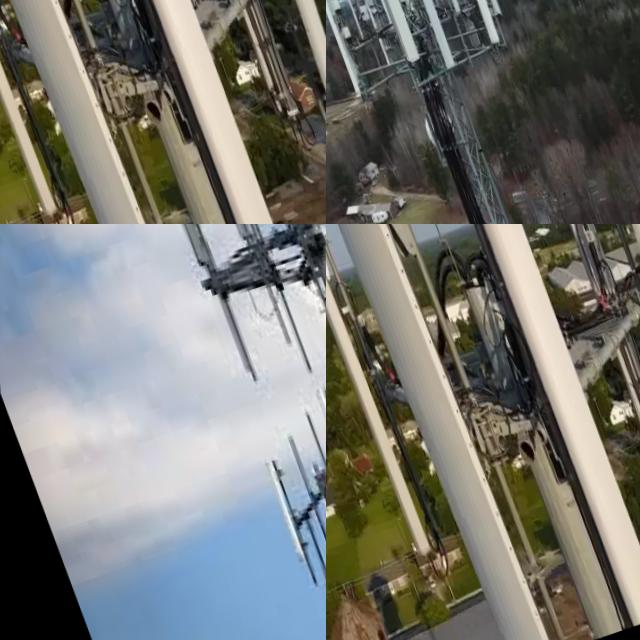GSM Antenna: (326, 224, 560, 640), (443, 224, 640, 633), (69, 0, 289, 224), (0, 0, 186, 224), (326, 230, 442, 567), (537, 224, 640, 465), (165, 0, 313, 154), (553, 224, 640, 460), (179, 0, 326, 120), (0, 0, 68, 224), (258, 459, 308, 567), (390, 0, 458, 75), (339, 0, 400, 77), (326, 0, 370, 105), (368, 0, 423, 72), (437, 0, 506, 56), (155, 224, 221, 280), (281, 433, 320, 518), (308, 380, 326, 499), (297, 411, 326, 483), (206, 224, 260, 254), (427, 0, 462, 19)
Microwave Antenna: (415, 111, 447, 161)
